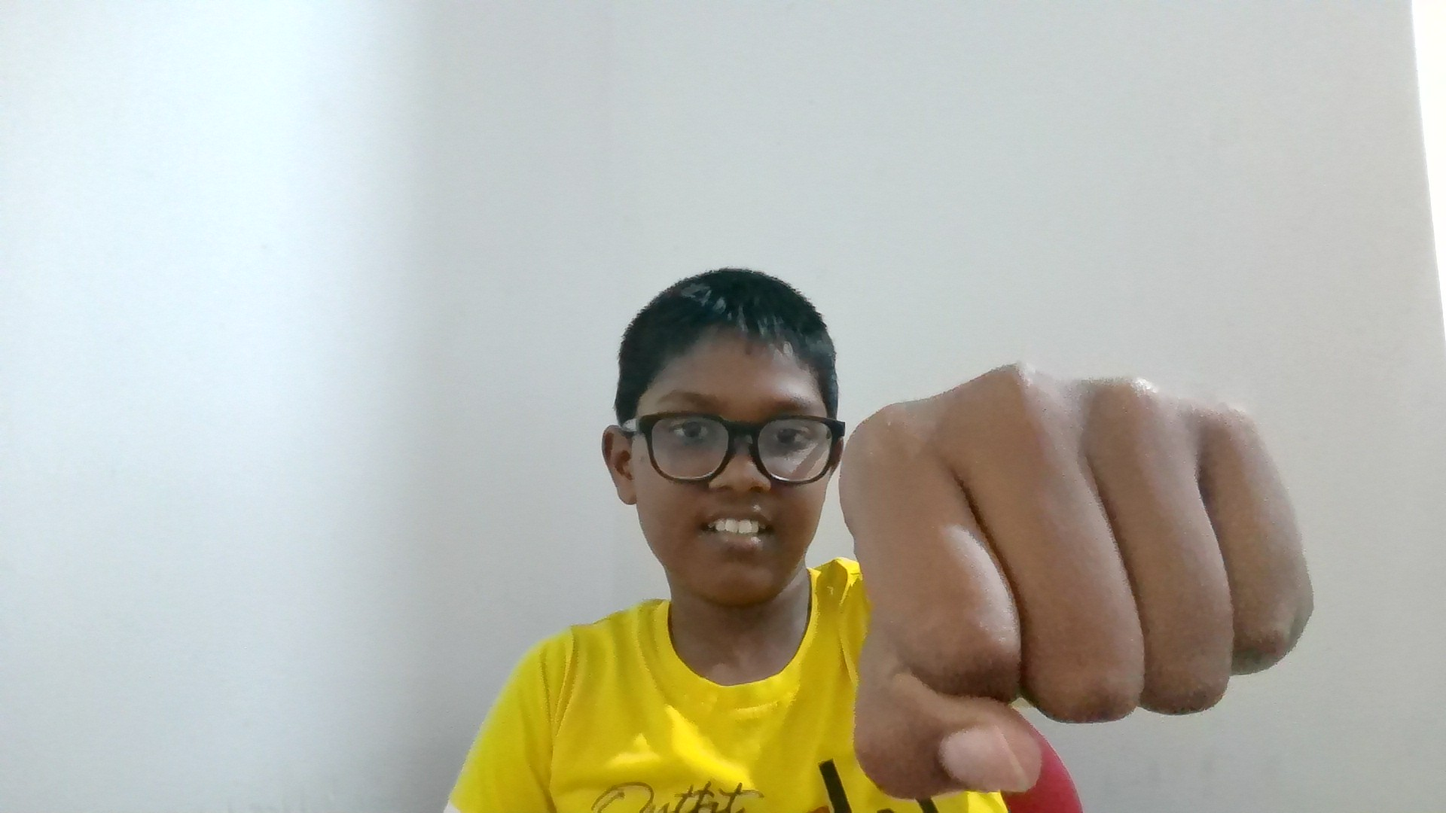Yes: (828, 286, 1318, 813)
